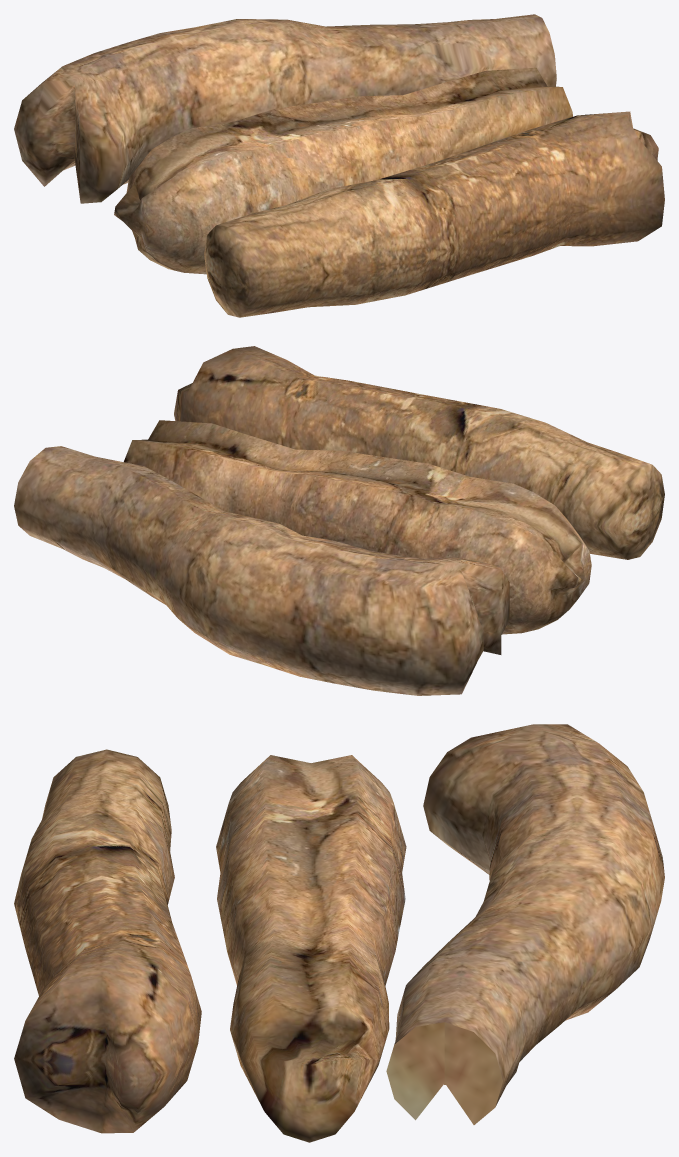
File: xiangjiapi.FBX
3 renders of one model, top to bottom at view 1: azimuth 30°, elevation 25°; view 2: azimuth 150°, elevation 25°; view 3: azimuth 270°, elevation 25°, orthographic. The views are drawn at different scales.
Parts seen in each view (by area): view 1: Cylinder003, Cylinder001, Cylinder002; view 2: Cylinder001, Cylinder002, Cylinder003; view 3: Cylinder001, Cylinder002, Cylinder003.
Part boxes in pixels (x1,y1,x2,y2): Cylinder003: (204, 111, 664, 317); Cylinder001: (14, 14, 556, 203); Cylinder002: (114, 67, 572, 274); Cylinder001: (14, 446, 509, 695); Cylinder002: (124, 420, 591, 634); Cylinder003: (174, 346, 664, 559); Cylinder001: (386, 724, 664, 1124); Cylinder002: (216, 755, 406, 1142); Cylinder003: (14, 749, 201, 1133).
Size of the model in its own units: 50.28 by 13.99 by 45.8.
Materials: 1 (1 with a texture image).
